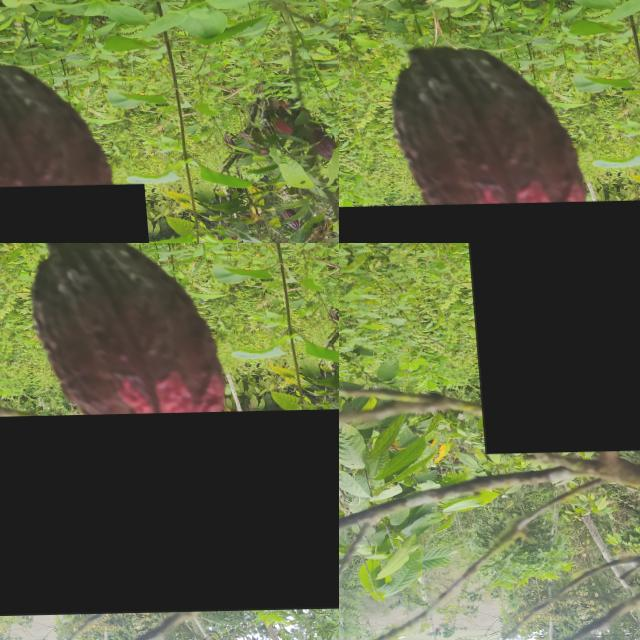Fitoftora: (465, 243, 640, 454)
Monilia: (0, 409, 339, 618)
